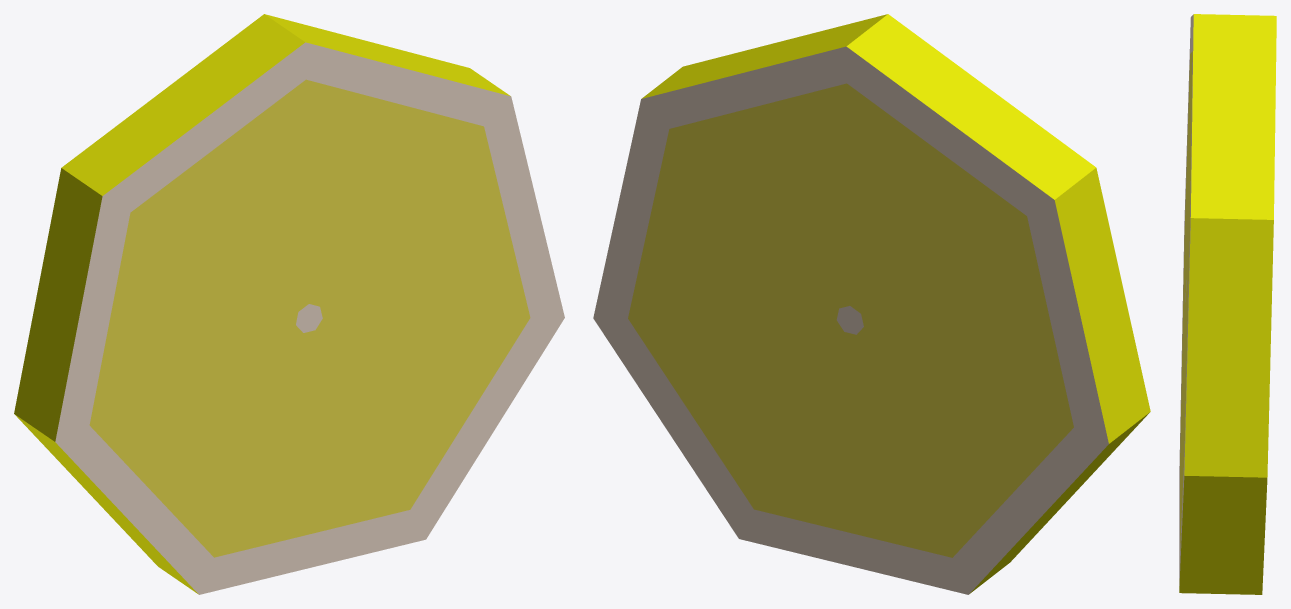
The model's file is LIMON ENTERO.fbx.
3 renders of one model, left to right at view 1: azimuth 30°, elevation 25°; view 2: azimuth 150°, elevation 25°; view 3: azimuth 270°, elevation 25°, orthographic.
Parts seen in each view (by area): view 1: LIMON ENTERO; view 2: LIMON ENTERO; view 3: LIMON ENTERO.
Boxes of the visible parts, box(x1,y1,x2,y2) form: LIMON ENTERO: box(14, 14, 564, 594); LIMON ENTERO: box(593, 14, 1150, 594); LIMON ENTERO: box(1179, 14, 1276, 594).
Bounding box in the file's own units: 6.53 × 6.39 × 1.08.
